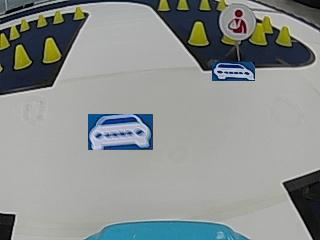cone: (187, 21, 209, 46), (42, 37, 61, 63), (13, 44, 31, 69), (276, 25, 292, 47), (251, 23, 267, 45), (0, 31, 10, 49), (72, 6, 84, 20), (52, 10, 64, 23), (36, 14, 48, 27), (9, 25, 20, 39), (157, 0, 170, 11), (199, 0, 211, 11), (177, 0, 189, 10), (20, 18, 30, 30)
patient: (219, 4, 251, 38)
